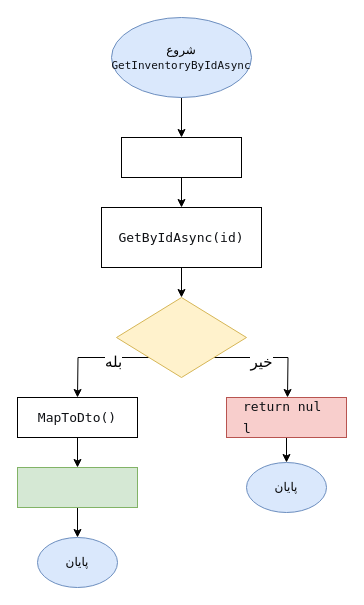
Image size: 364x605. Some labels were removed from this diagram. The centre of each missing label's shape, as x and y in pixels:
"return DTO" goes at (x=77, y=487).
"دریافت Id" goes at (x=181, y=157).
"موجودی وجود دارد؟" goes at (x=181, y=337).
